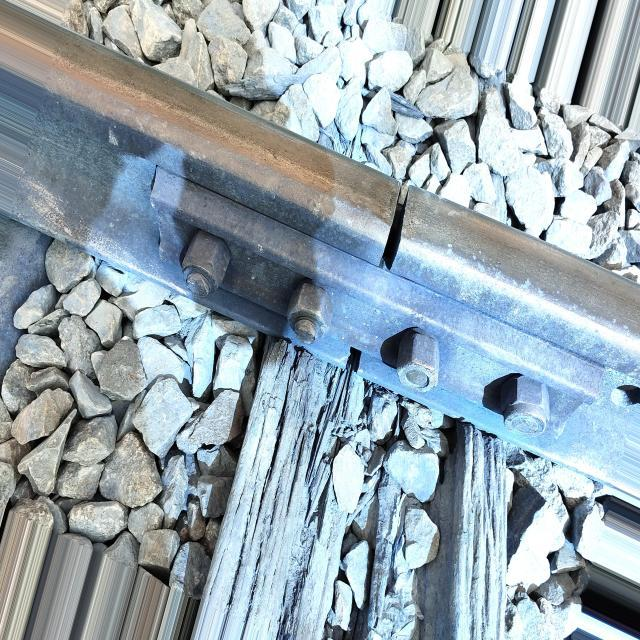Good Joint: (151, 166, 640, 479)
